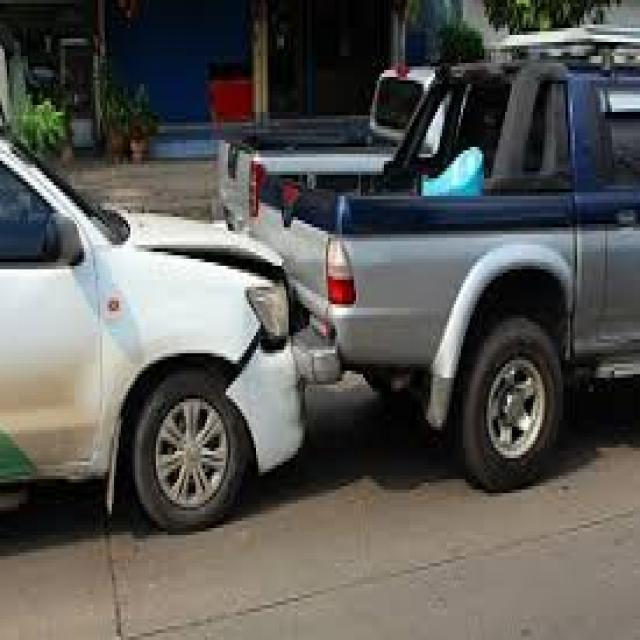accident: (0, 35, 640, 563)
